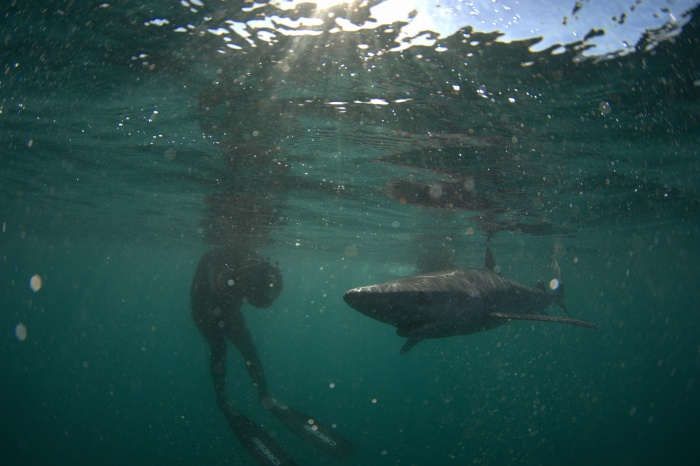Azul: (332, 231, 623, 377)
